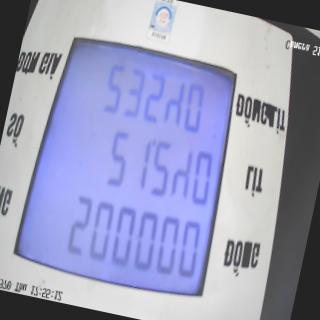screen: (4, 21, 256, 320)
